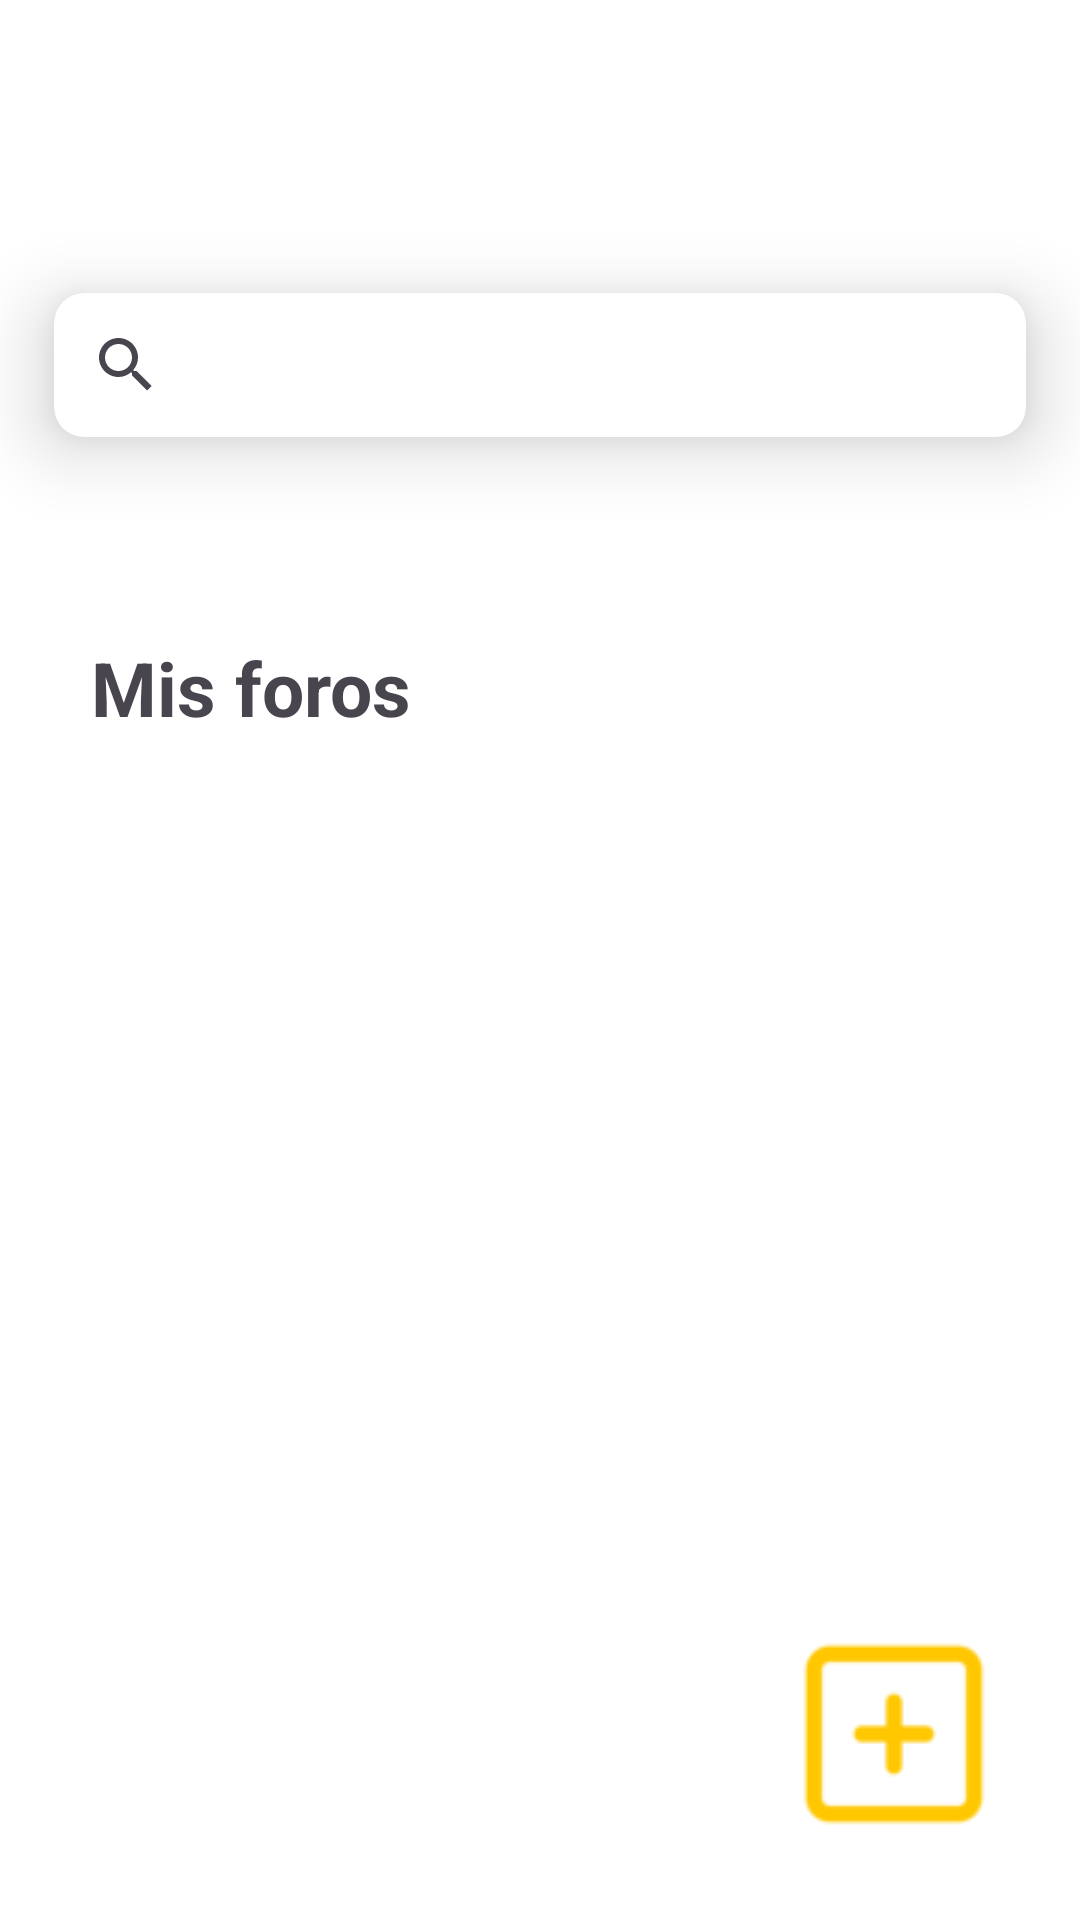

Where to tap for icons on this 1080*1920 app screen, as (x,y):
add: (894,1734)
